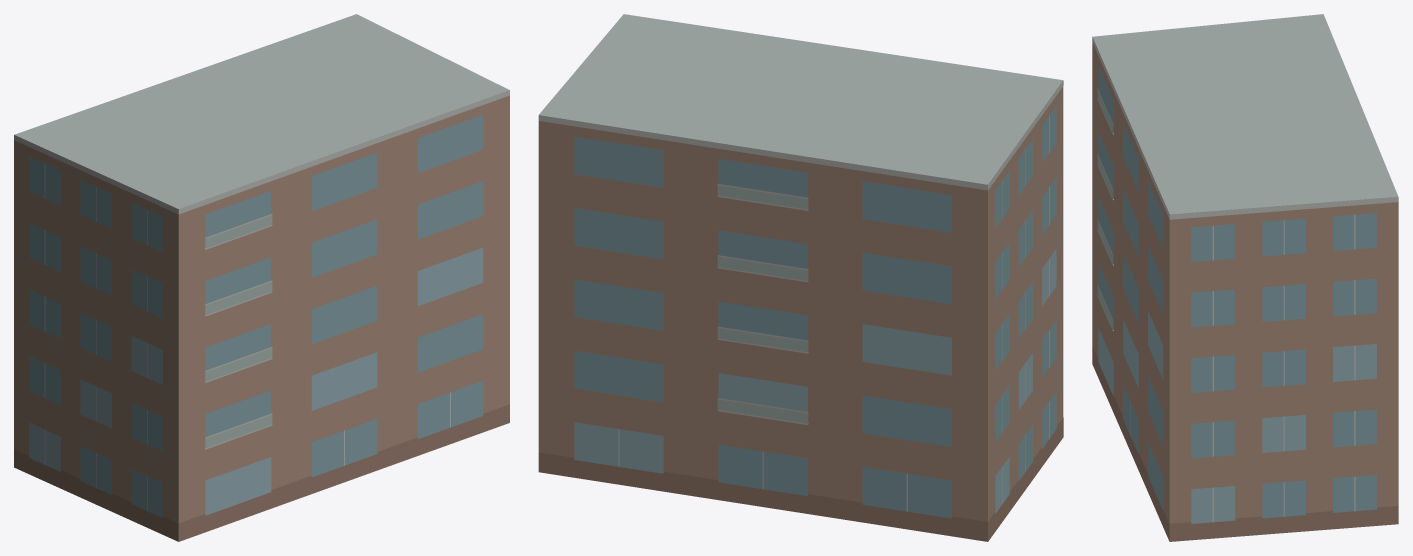
The model's file is survey-upis-32782985.glb.
The picture shows the model from 3 angles, left to right: view 1: azimuth 30°, elevation 25°; view 2: azimuth 150°, elevation 25°; view 3: azimuth 270°, elevation 25°; orthographic projection. The views are drawn at different scales.
Parts seen in each view (by area): view 1: survey-upis-32782985.tmp; view 2: survey-upis-32782985.tmp; view 3: survey-upis-32782985.tmp.
Part boxes in pixels (bbox=[...]): survey-upis-32782985.tmp: bbox=[14, 14, 509, 541]; survey-upis-32782985.tmp: bbox=[538, 14, 1063, 541]; survey-upis-32782985.tmp: bbox=[1092, 14, 1398, 541].
Bounding box in the file's own units: 20.04 × 15.25 × 12.94.
